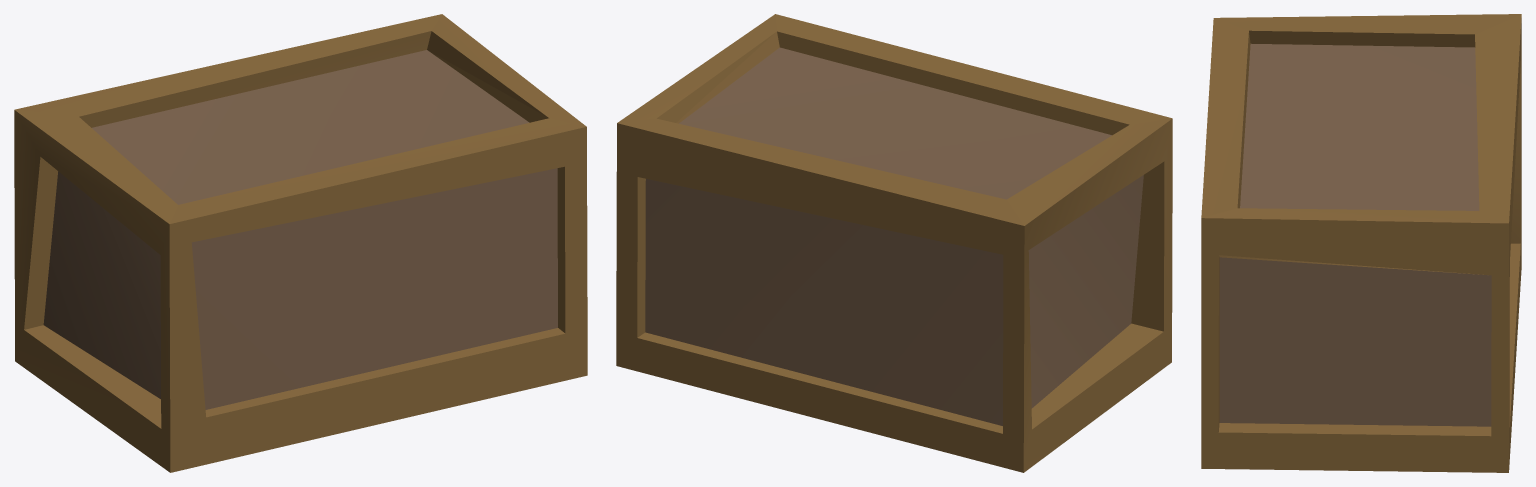
The model's file is Crate.fbx.
The picture shows the model from 3 angles, left to right: view 1: azimuth 30°, elevation 25°; view 2: azimuth 150°, elevation 25°; view 3: azimuth 270°, elevation 25°; orthographic projection. The views are drawn at different scales.
Visible parts, largest first — view 1: Crate; view 2: Crate; view 3: Crate.
Part boxes in pixels (x1,y1,x2,y2): Crate: [14, 14, 587, 472]; Crate: [616, 14, 1172, 472]; Crate: [1201, 14, 1521, 472].
Size of the model in its own units: 1.5 by 0.8531 by 0.9782.
